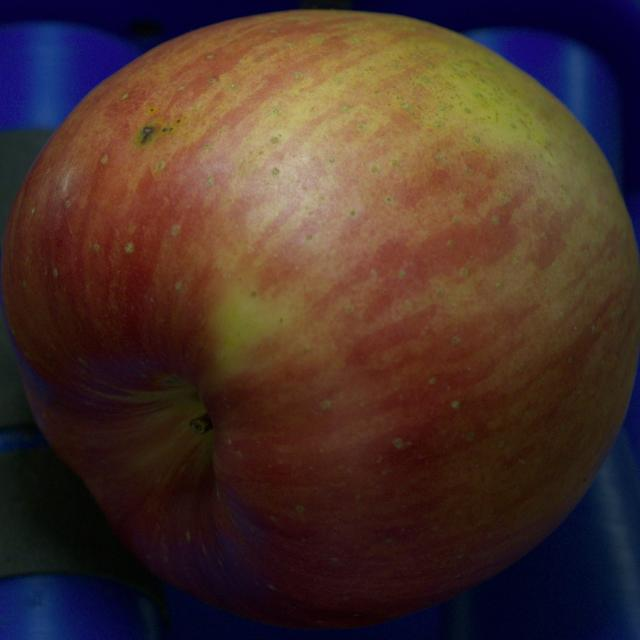apple: (1, 11, 639, 628)
pest: (141, 126, 153, 141)
